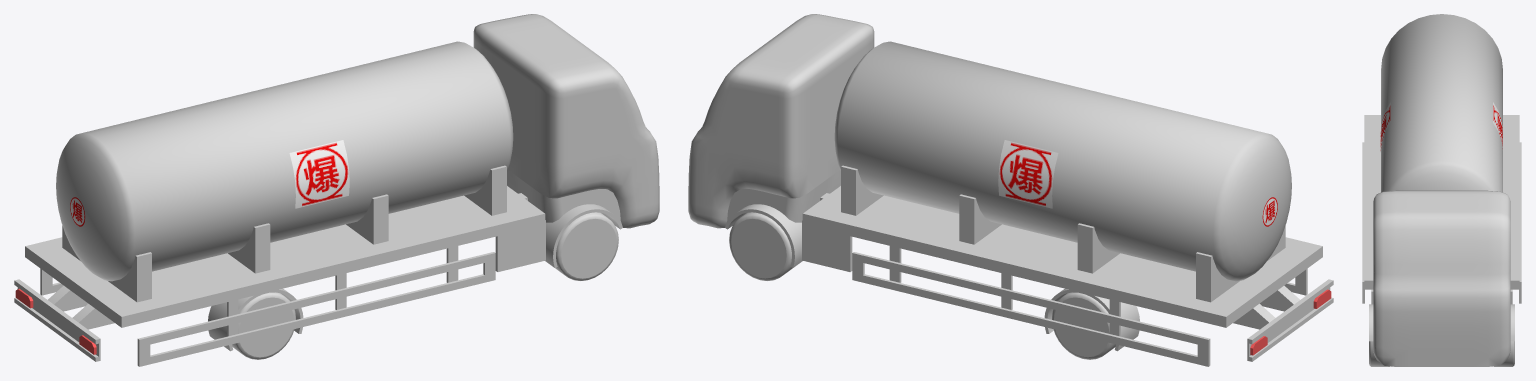
The model's file is DANGEROUS.glb.
The picture shows the model from 3 angles, left to right: view 1: azimuth 30°, elevation 25°; view 2: azimuth 150°, elevation 25°; view 3: azimuth 270°, elevation 25°; orthographic projection. The views are drawn at different scales.
Visible parts, largest first — view 1: body; view 2: body; view 3: body.
Boxes of the visible parts, x1,y1,x2,y2 form: body: (14,14,659,366); body: (688,14,1333,366); body: (1362,14,1521,366).
Bounding box in the file's own units: 9.78 × 3.61 × 2.97.
Materials: 3 (1 with a texture image).
